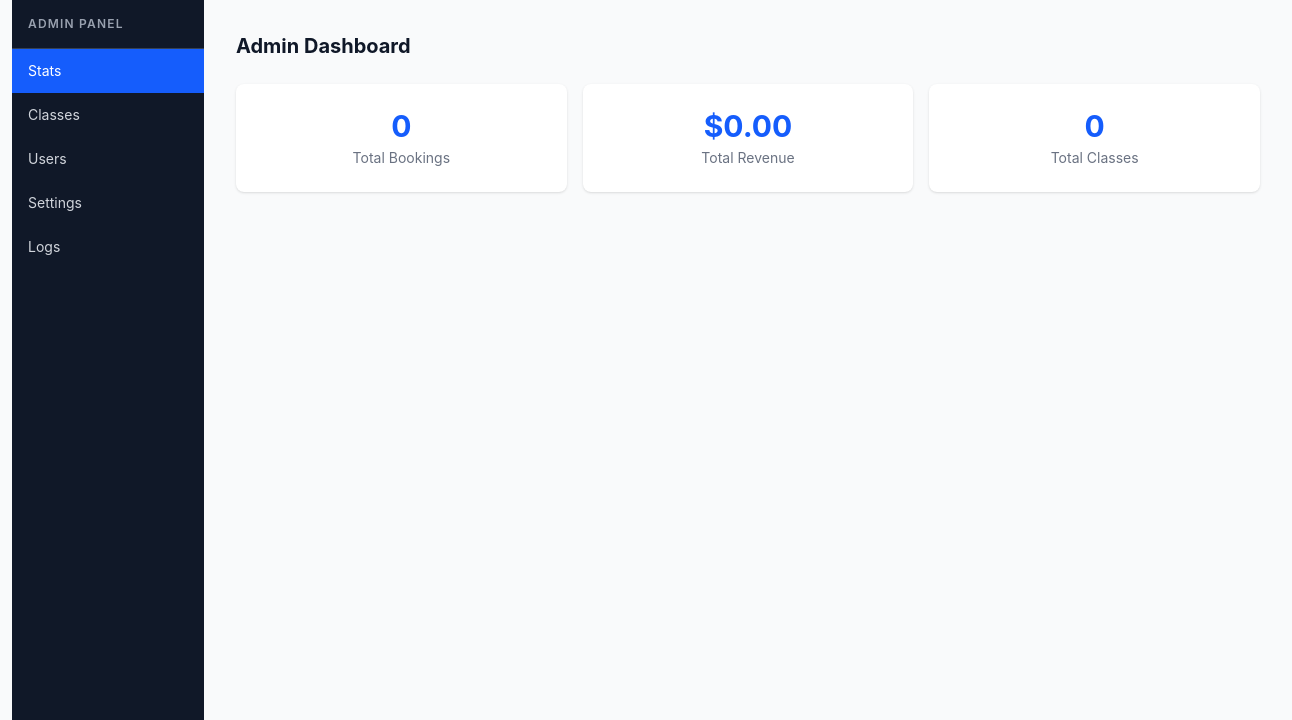
Test: Admin Users tab – search › shows no rows when search matches nothing
The width and height of the screenshot is (1292, 720).
Click the button "Users": [108, 159] box [12, 137, 204, 181]
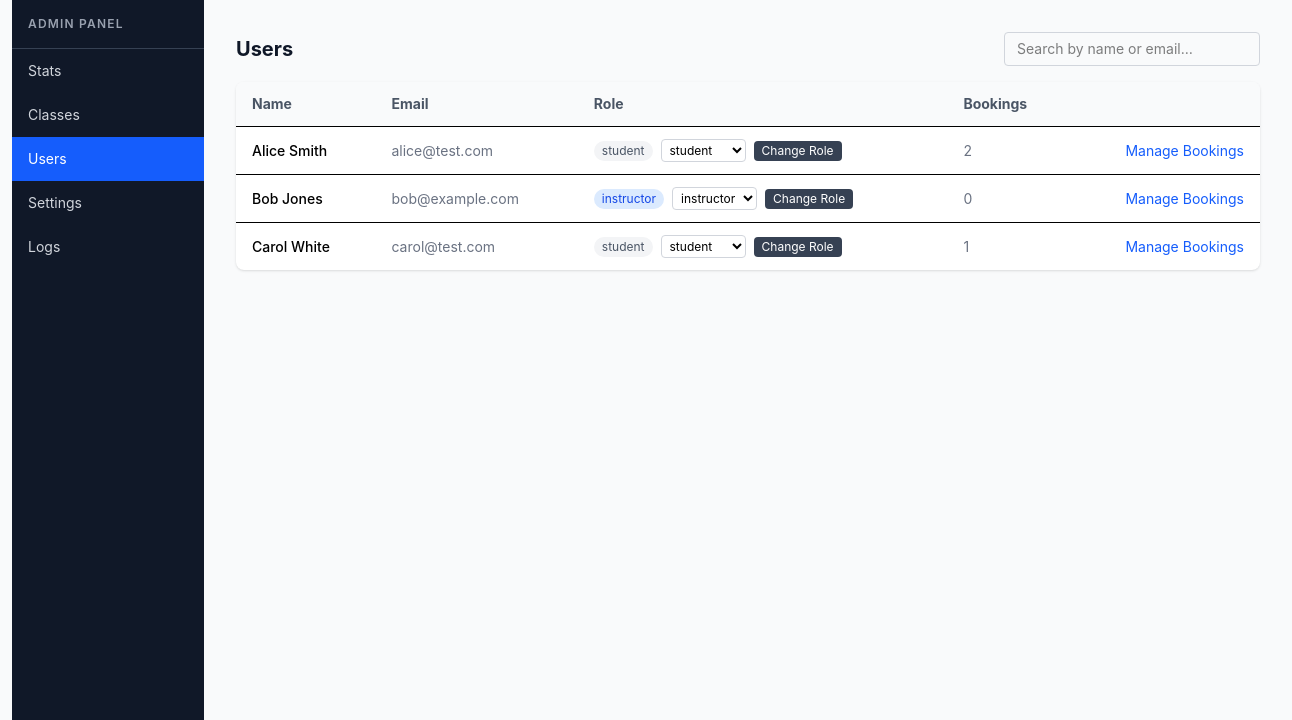
Check: the text "Alice Smith" is shown, box [236, 126, 376, 174]
In the field named "search users": [1132, 49] box [1004, 32, 1260, 66], type "zzznomatch"
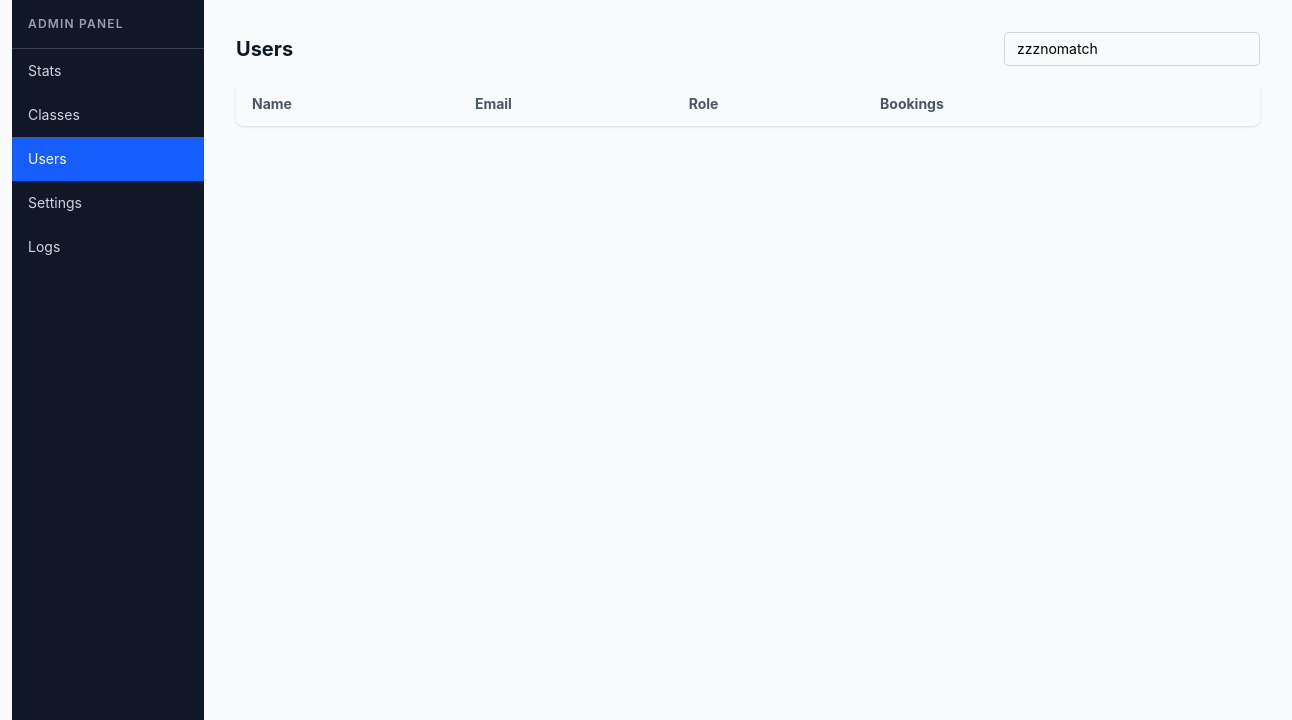
Check: the text "Alice Smith" is gone
Check: the text "Bob Jones" is gone
Check: the text "Carol White" is gone
